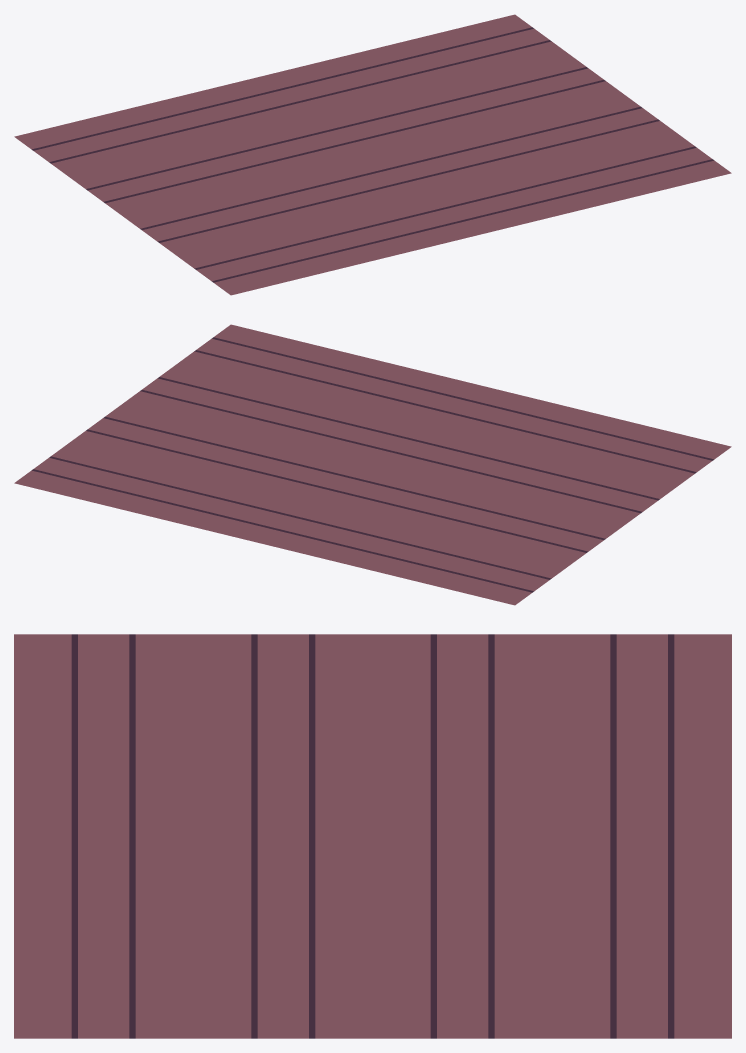
File: table.glb
3 renders of one model, top to bottom at view 1: azimuth 30°, elevation 25°; view 2: azimuth 150°, elevation 25°; view 3: azimuth 270°, elevation 25°, orthographic. The views are drawn at different scales.
Parts seen in each view (by area): view 1: Table; view 2: Table; view 3: Table.
Part boxes in pixels (x1,y1,x2,y2): Table: [14, 14, 731, 295]; Table: [14, 324, 731, 605]; Table: [14, 634, 731, 1038].
Size of the model in its own units: 24 by 0 by 18.
